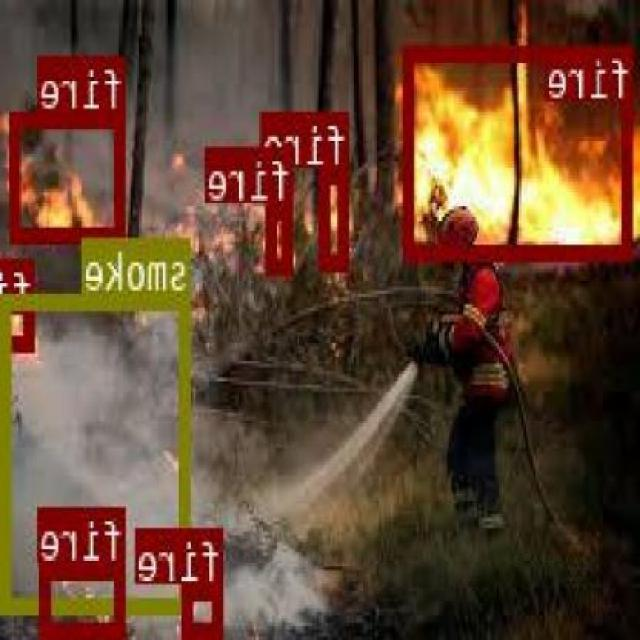Fire: (404, 42, 636, 256), (13, 110, 127, 238), (44, 562, 128, 633), (323, 166, 352, 269), (5, 258, 38, 346), (187, 582, 224, 633), (268, 200, 294, 272)
Smoke: (4, 292, 192, 608)
